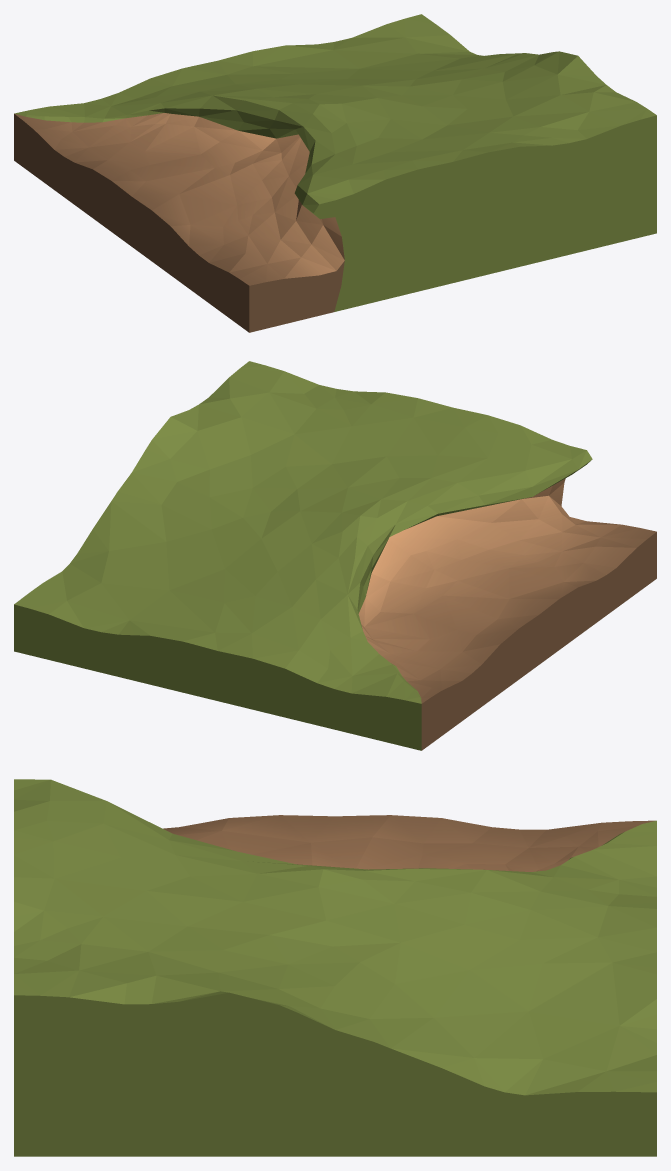
Rendered from Terrian_Cliff_Flat_End-01.fbx.
3 views of the same model, one above another, from view 1: azimuth 30°, elevation 25°; view 2: azimuth 150°, elevation 25°; view 3: azimuth 270°, elevation 25° (orthographic). The views are drawn at different scales.
Visible parts, largest first — view 1: Terrian_Cliff_Flat_End-01; view 2: Terrian_Cliff_Flat_End-01; view 3: Terrian_Cliff_Flat_End-01.
Part boxes in pixels (<box>): Terrian_Cliff_Flat_End-01: <box>14,14,656,332</box>; Terrian_Cliff_Flat_End-01: <box>14,361,656,750</box>; Terrian_Cliff_Flat_End-01: <box>14,779,656,1156</box>.
Size of the model in its own units: 3600 by 1031 by 3600.
Materials: 1 (1 with a texture image).
